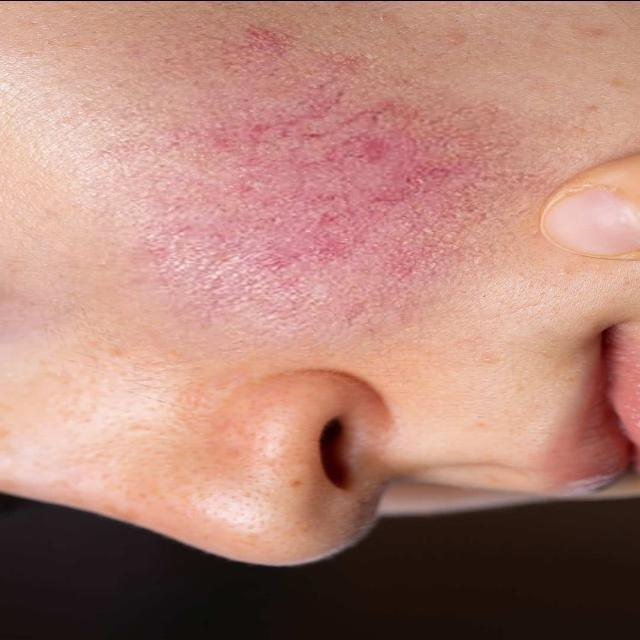Rosacea: (193, 86, 478, 310)
